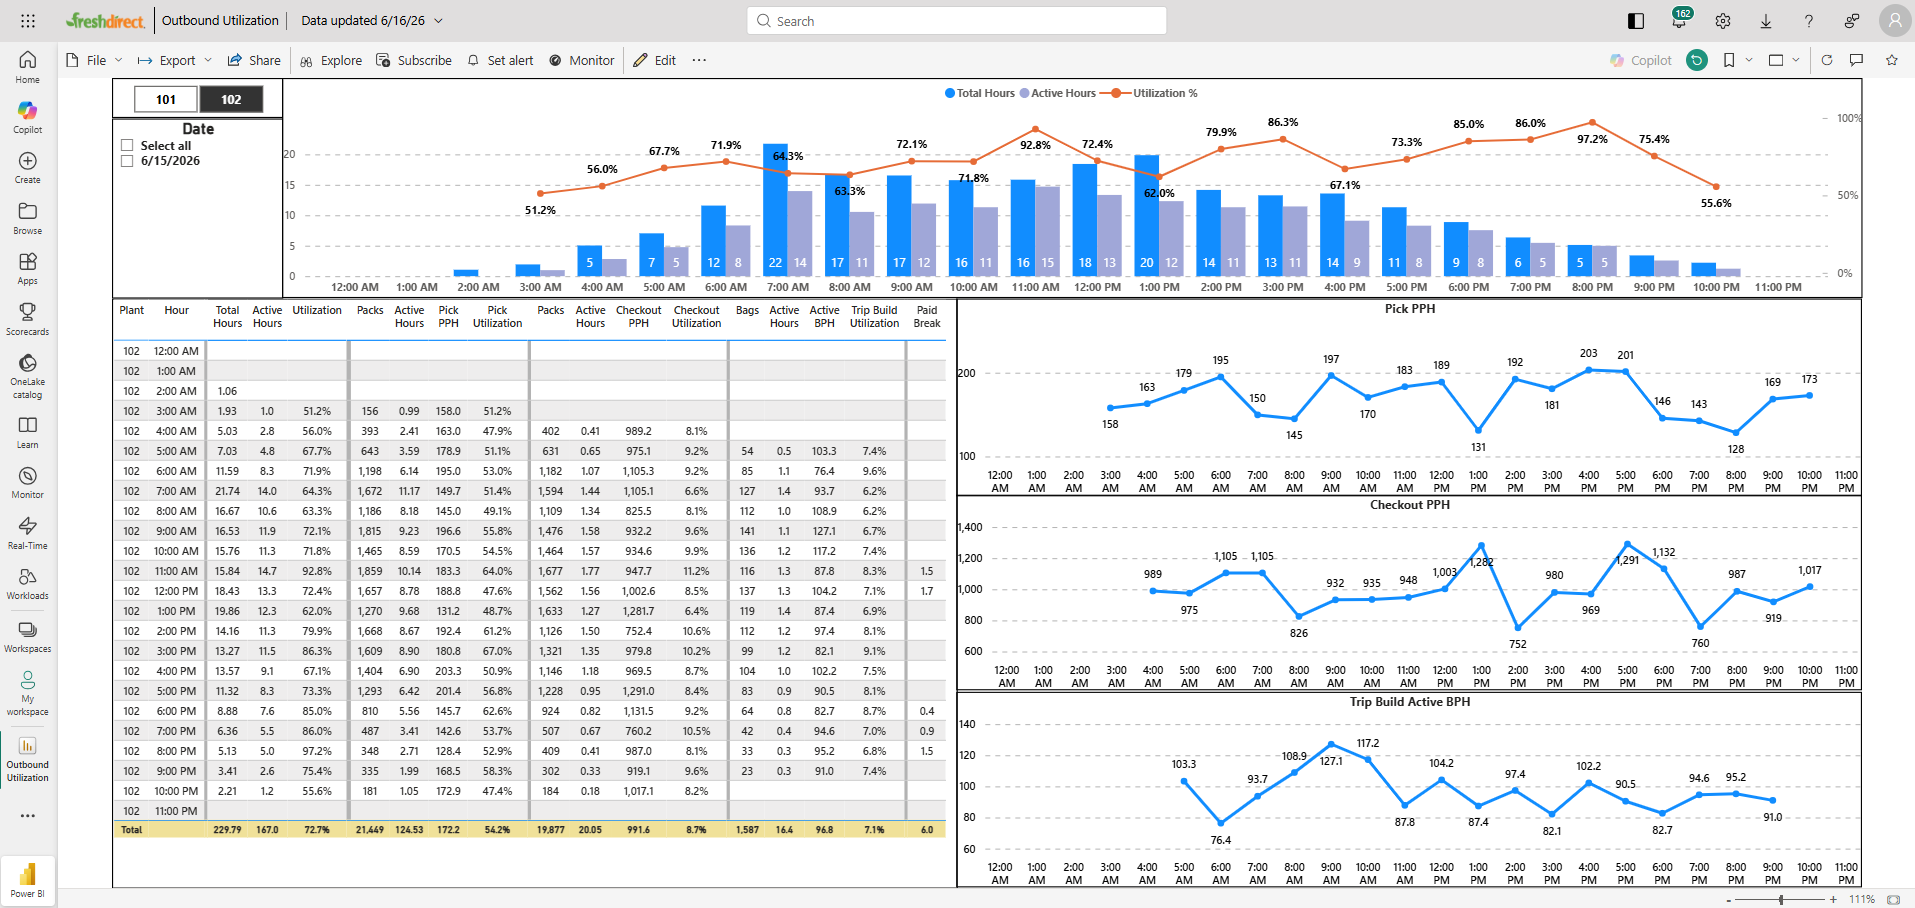

What the dashboard file says about the page in this screenshot:
{"tool":"powerbi","page":{"name":"Utilization","canvas":[1750,810],"ordinal":0},"visuals":[{"type":"slicer","title":"Plant","fields":{"Values":["Utilization - Hour.PLANT"]},"box":[0,0,170.7,40.4],"z":0},{"type":"lineClusteredColumnComboChart","fields":{"Y":["Utilization - Hour.Total Hours 2","Utilization - Hour.Active Hours 2"],"Y2":["Utilization - Hour.Utilization % 2"],"Category":["Utilization - Hour.TIME_HOUR"]},"box":[170.4,0,1580,220],"z":1000},{"type":"lineClusteredColumnComboChart","title":"Checkout PPH","fields":{"Category":["Utilization - Hour.TIME_HOUR"],"Y2":["Utilization - Hour.Checkout PPH 2"]},"box":[844.4,416.4,905.6,196.1],"z":2000},{"type":"lineClusteredColumnComboChart","title":"Pick PPH","fields":{"Category":["Utilization - Hour.TIME_HOUR"],"Y2":["Utilization - Hour.Pick PPH 2"]},"box":[844.4,220.3,905.6,197.3],"z":3000},{"type":"lineClusteredColumnComboChart","title":"Trip Build Active BPH","fields":{"Y2":["Utilization - Hour.Trip Build PKC BPH 2"],"Category":["Utilization - Hour.TIME_HOUR"]},"box":[844.4,613.7,905.6,196.1],"z":4000},{"type":"slicer","title":"Date","fields":{"Values":["Utilization - Hour.CALENDAR_DATE"]},"box":[0,40.4,170.7,180],"z":5000},{"type":"tableEx","fields":{"Values":["Utilization - Hour.PLANT","Utilization - Hour.TIME_HOUR","Utilization - Hour.blank","Utilization - Hour.Total Hours 2","Utilization - Hour.Active Hours 2","Utilization - Hour.Utilization % 2","Utilization - Hour.blank","Sum(Utilization - Hour.PACKS_PICKED)","Sum(Utilization - Hour.PICK_ACTIVE_HOURS)","Utilization - Hour.Pick PPH 2","Utilization - Hour.Pick Utilization 2","Utilization - Hour.blank"]},"box":[0,220.3,845,590],"z":6000}]}

Visuals, with their boxes on the page's 1750x810 design canvas (x1, y1, x2, y2). These are canvas units, not pixel positions in the 1915x908 screenshot, which may show the page scaled, cropped or inside an application window:
"Plant" slicer: detection(0, 0, 171, 40)
lineClusteredColumnComboChart - Utilization - Hour.Total Hours 2 x Utilization - Hour.Active Hours 2: detection(170, 0, 1750, 220)
"Checkout PPH" lineClusteredColumnComboChart: detection(844, 416, 1750, 612)
"Pick PPH" lineClusteredColumnComboChart: detection(844, 220, 1750, 418)
"Trip Build Active BPH" lineClusteredColumnComboChart: detection(844, 614, 1750, 810)
"Date" slicer: detection(0, 40, 171, 220)
tableEx - Utilization - Hour.PLANT x Utilization - Hour.TIME_HOUR: detection(0, 220, 845, 810)
